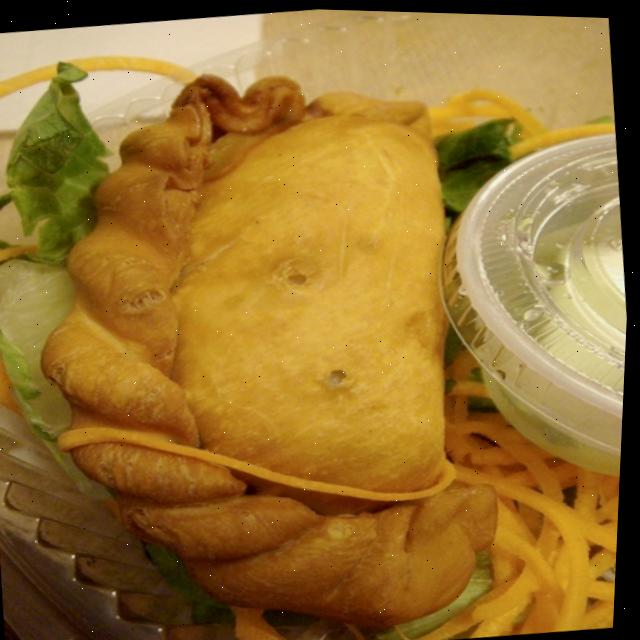炸货点心: (0, 11, 607, 640)
